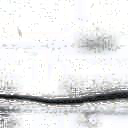crackTip: (1, 89, 128, 112)
